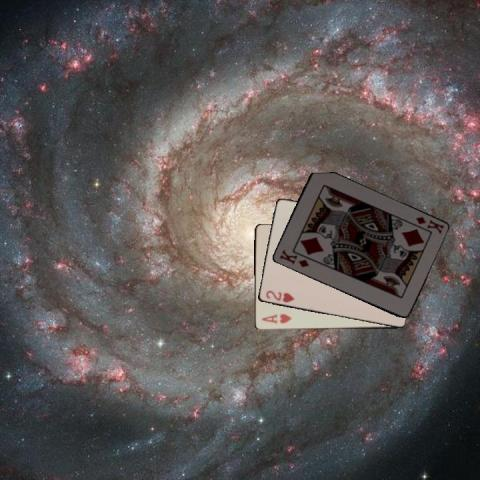2h: (263, 287, 295, 304)
Ah: (258, 312, 292, 326)
Kd: (406, 214, 444, 236), (276, 247, 310, 269)
